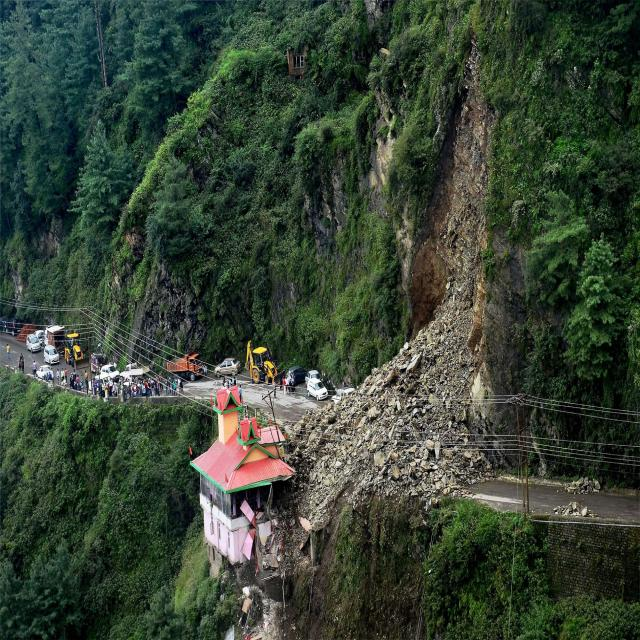landSliding: (231, 327, 640, 526)
